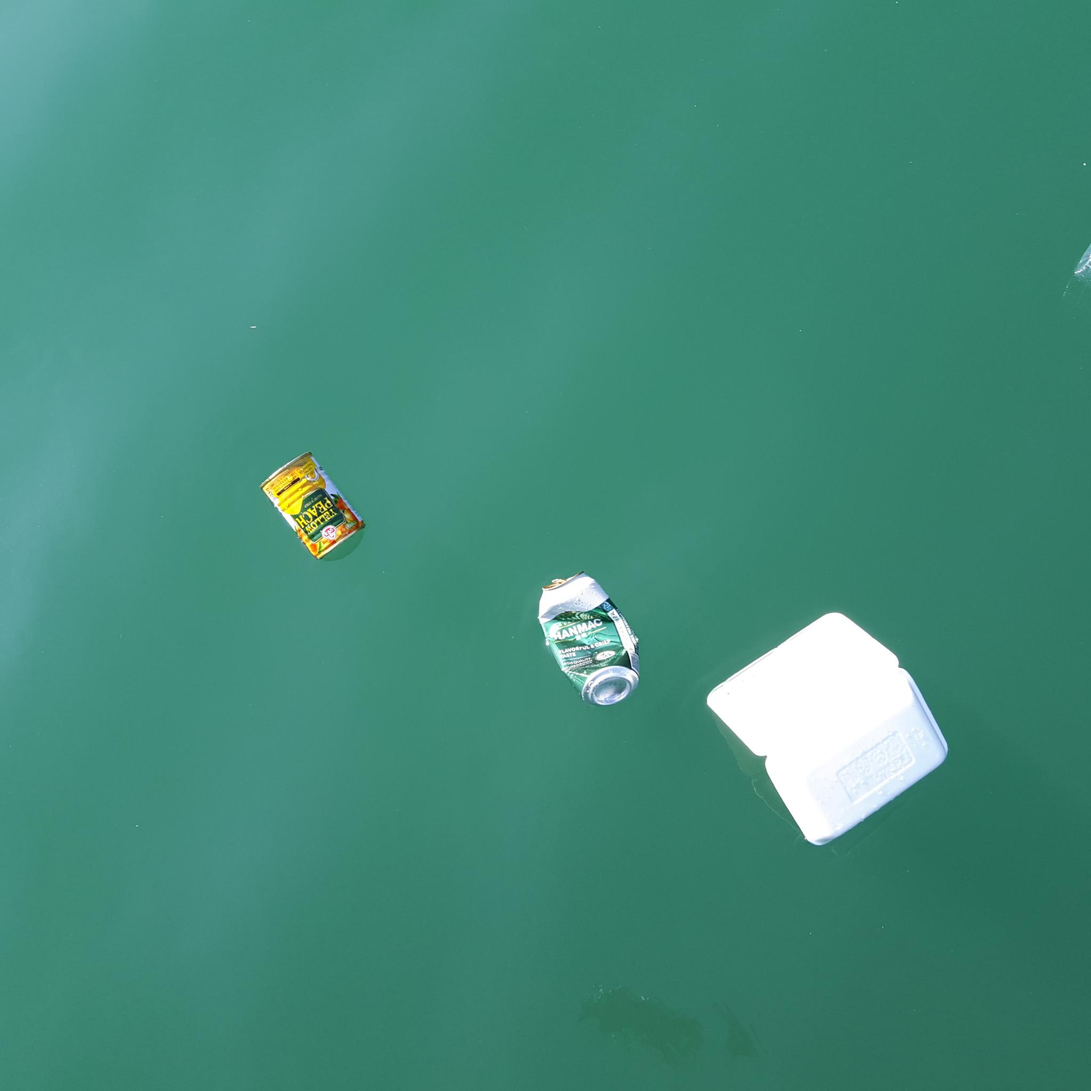sampah_terapung: (707, 613, 948, 846), (538, 571, 641, 707), (259, 452, 366, 560)
